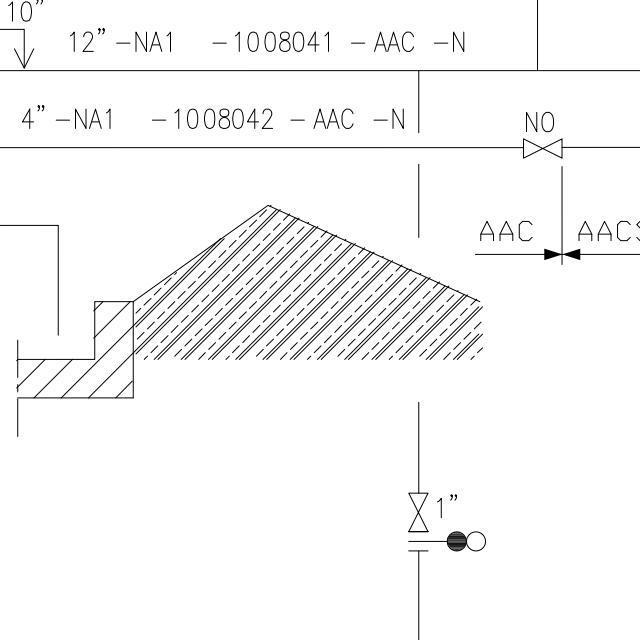GV: (517, 133, 568, 161), (406, 489, 430, 536)
